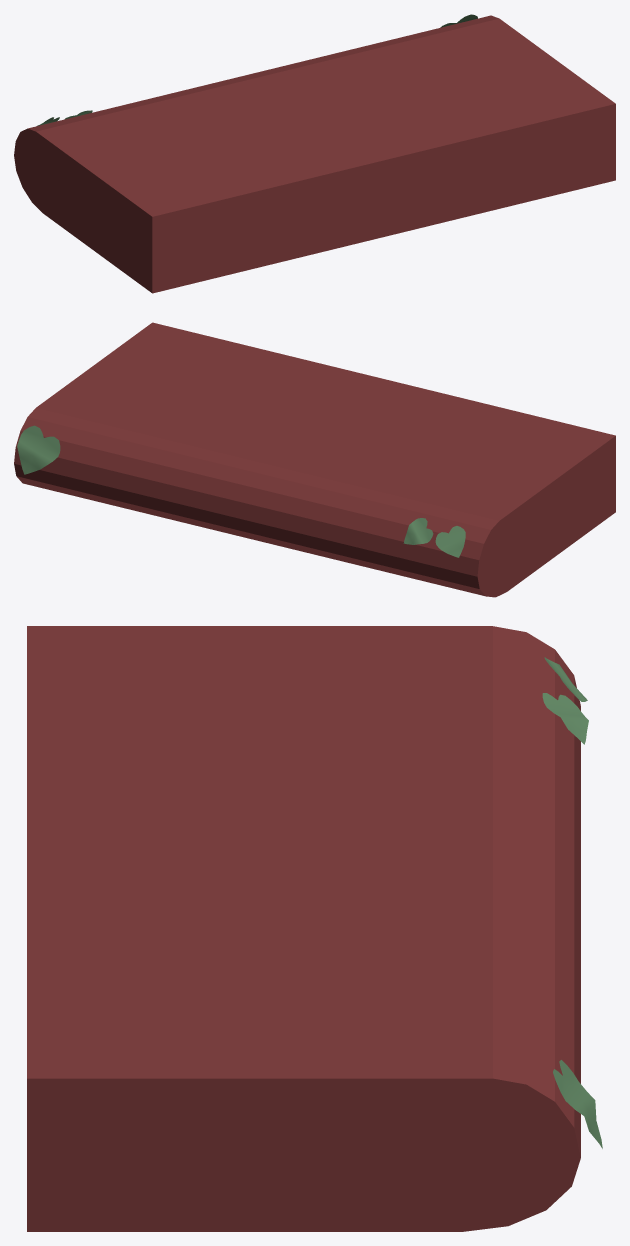
File: paddle 2.fbx
3 views of the same model, one above another, from view 1: azimuth 30°, elevation 25°; view 2: azimuth 150°, elevation 25°; view 3: azimuth 270°, elevation 25° (orthographic). The views are drawn at different scales.
Visible parts, largest first — view 1: M_WoodPaddle; view 2: M_WoodPaddle, Circle, Circle.001, M_Leafs; view 3: M_WoodPaddle, Circle, M_Leafs.
Part boxes in pixels (x1,y1,x2,y2): M_WoodPaddle: [14, 15, 615, 293]; M_WoodPaddle: [14, 322, 615, 597]; Circle: [17, 425, 60, 474]; Circle.001: [435, 526, 465, 557]; M_Leafs: [403, 518, 433, 544]; M_WoodPaddle: [27, 626, 580, 1231]; Circle: [553, 1060, 602, 1148]; M_Leafs: [542, 693, 588, 744].
Size of the model in its own units: 334 by 52.83 by 180.
